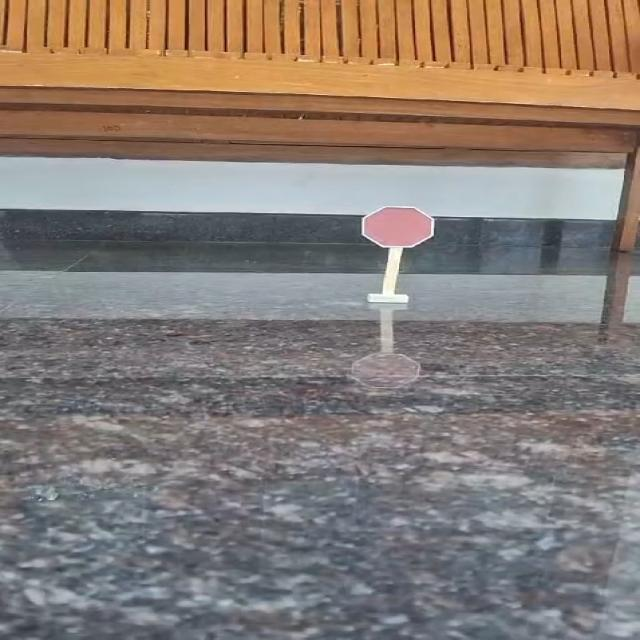Stop: (354, 201, 446, 256)
